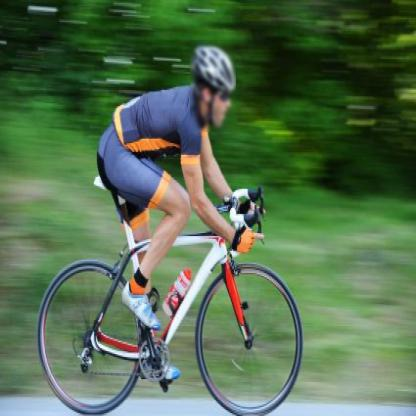Helmet: (191, 43, 239, 129)
